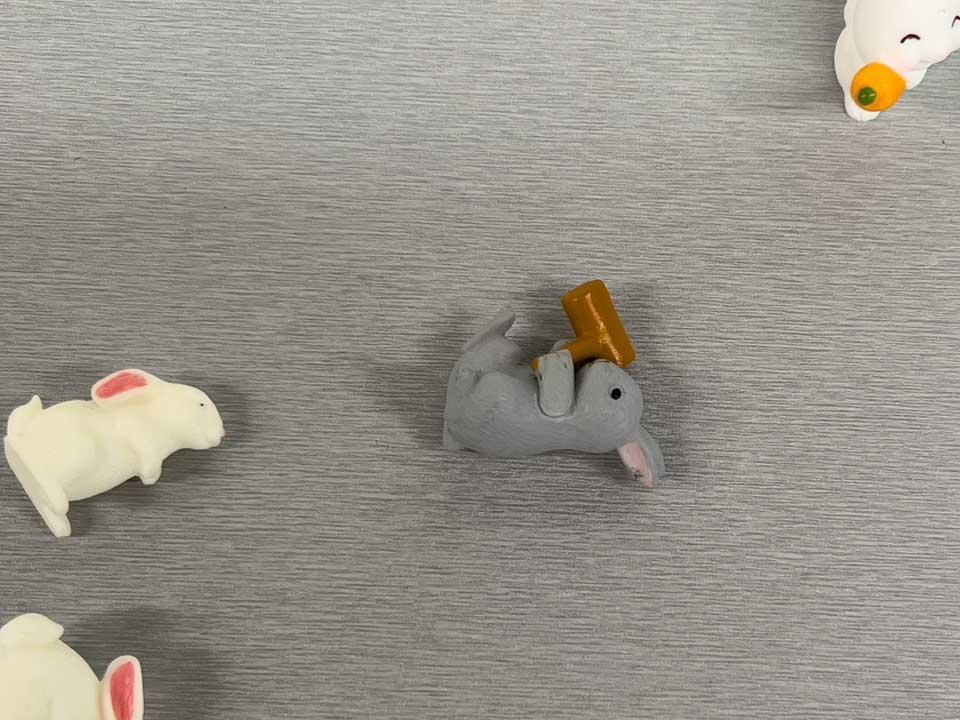pet: (440, 272, 672, 491), (0, 367, 227, 537), (0, 605, 150, 720), (830, 0, 960, 131)
